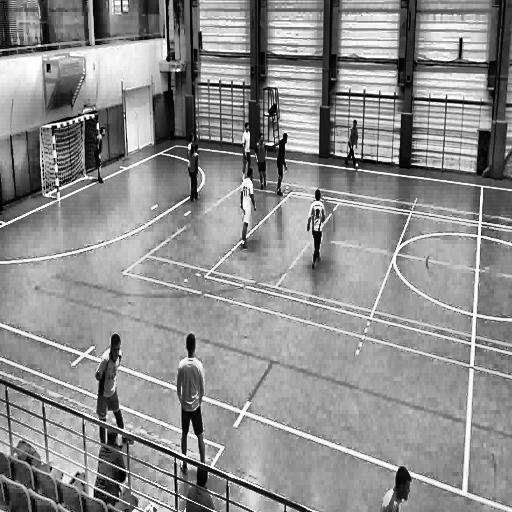ball: (354, 163, 359, 171)
